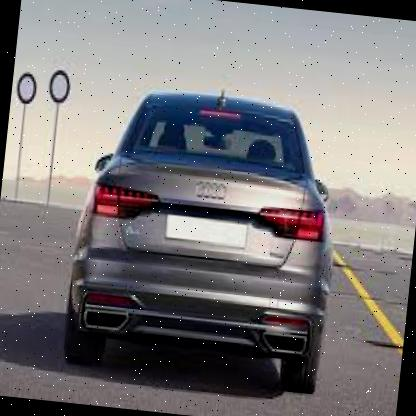car: (49, 70, 357, 402)
